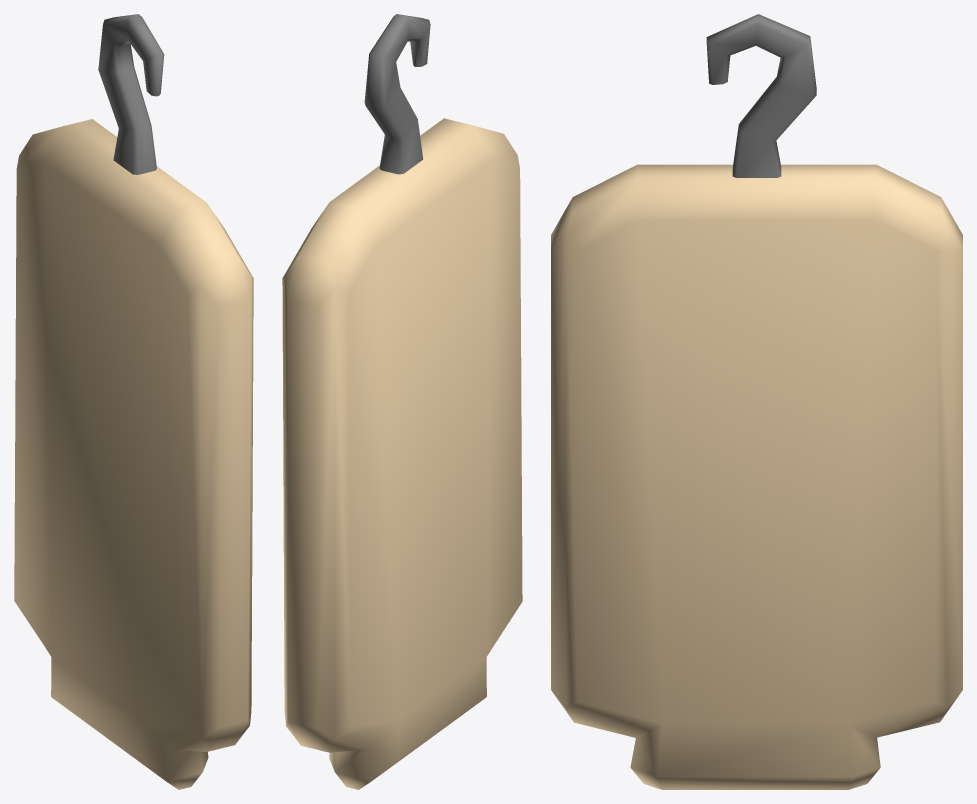
File: Clothes on a hanger 4.fbx
3 renders of one model, left to right at view 1: azimuth 30°, elevation 25°; view 2: azimuth 150°, elevation 25°; view 3: azimuth 270°, elevation 25°, orthographic. The views are drawn at different scales.
Visible parts, largest first — view 1: Clothes on a hanger 4; view 2: Clothes on a hanger 4; view 3: Clothes on a hanger 4.
Boxes of the visible parts, x1,y1,x2,y2 form: Clothes on a hanger 4: (14,14,253,789); Clothes on a hanger 4: (282,14,522,789); Clothes on a hanger 4: (551,14,962,789).
Size of the model in its own units: 16.05 by 153 by 74.64.
